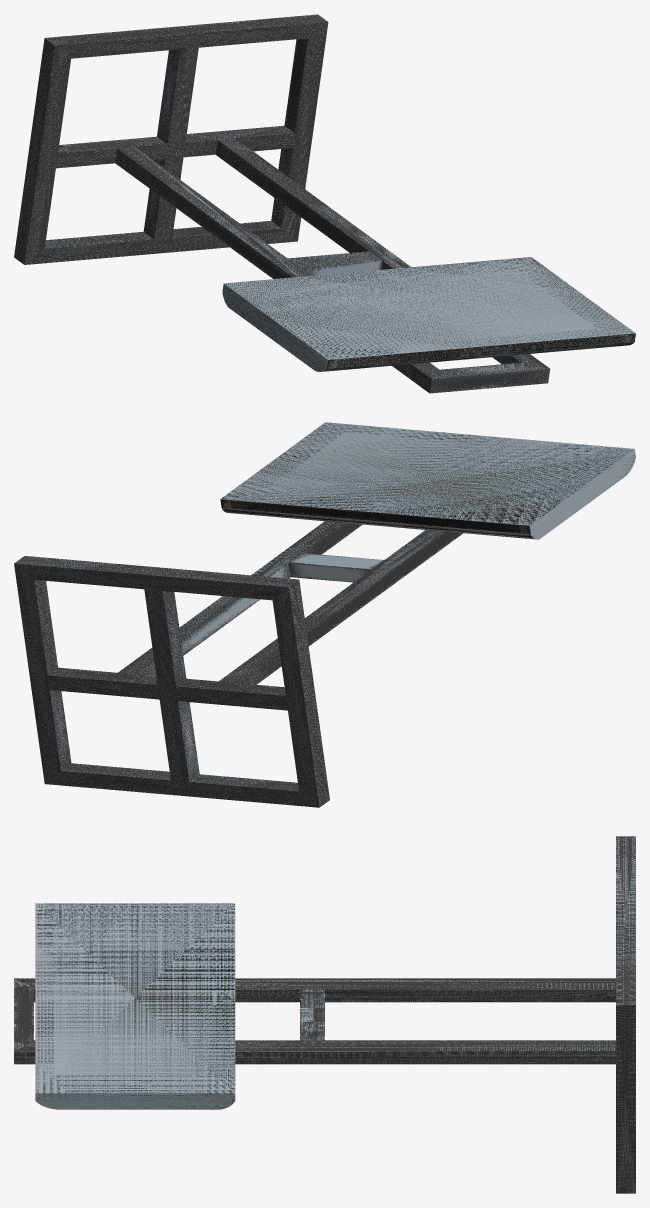
The model's file is VRlab-TV.fbx.
The picture shows the model from 3 angles, top to bottom: view 1: azimuth 30°, elevation 25°; view 2: azimuth 150°, elevation 25°; view 3: azimuth 270°, elevation 25°; orthographic projection. The views are drawn at different scales.
Visible parts, largest first — view 1: Group1, Samsung_32__HD_LCD_TV1; view 2: Group1, Samsung_32__HD_LCD_TV1; view 3: Samsung_32__HD_LCD_TV1, Group1.
Boxes of the visible parts, left/top/right/bottom form: Group1: left=14, top=14, right=550, bottom=393; Samsung_32__HD_LCD_TV1: left=222, top=257, right=635, bottom=371; Group1: left=14, top=521, right=462, bottom=807; Samsung_32__HD_LCD_TV1: left=220, top=422, right=635, bottom=539; Samsung_32__HD_LCD_TV1: left=35, top=903, right=235, bottom=1109; Group1: left=14, top=836, right=635, bottom=1193.
Bounding box in the file's own units: 45.46 × 35.71 × 82.46.
